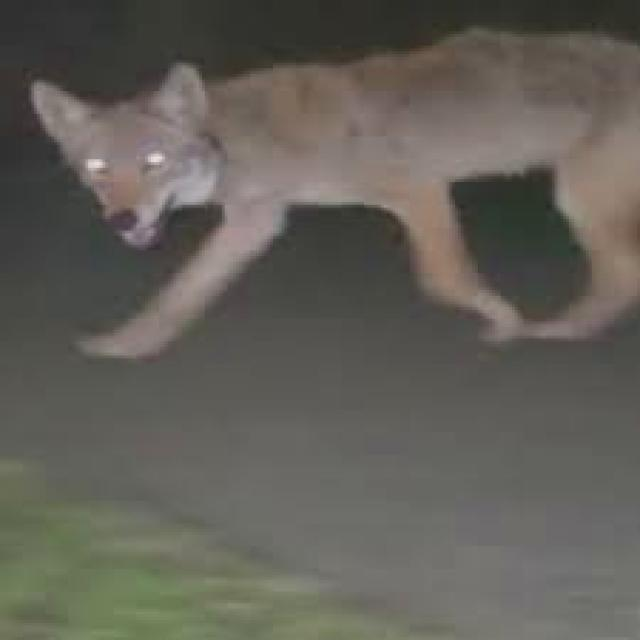coyote: (31, 28, 637, 356)
